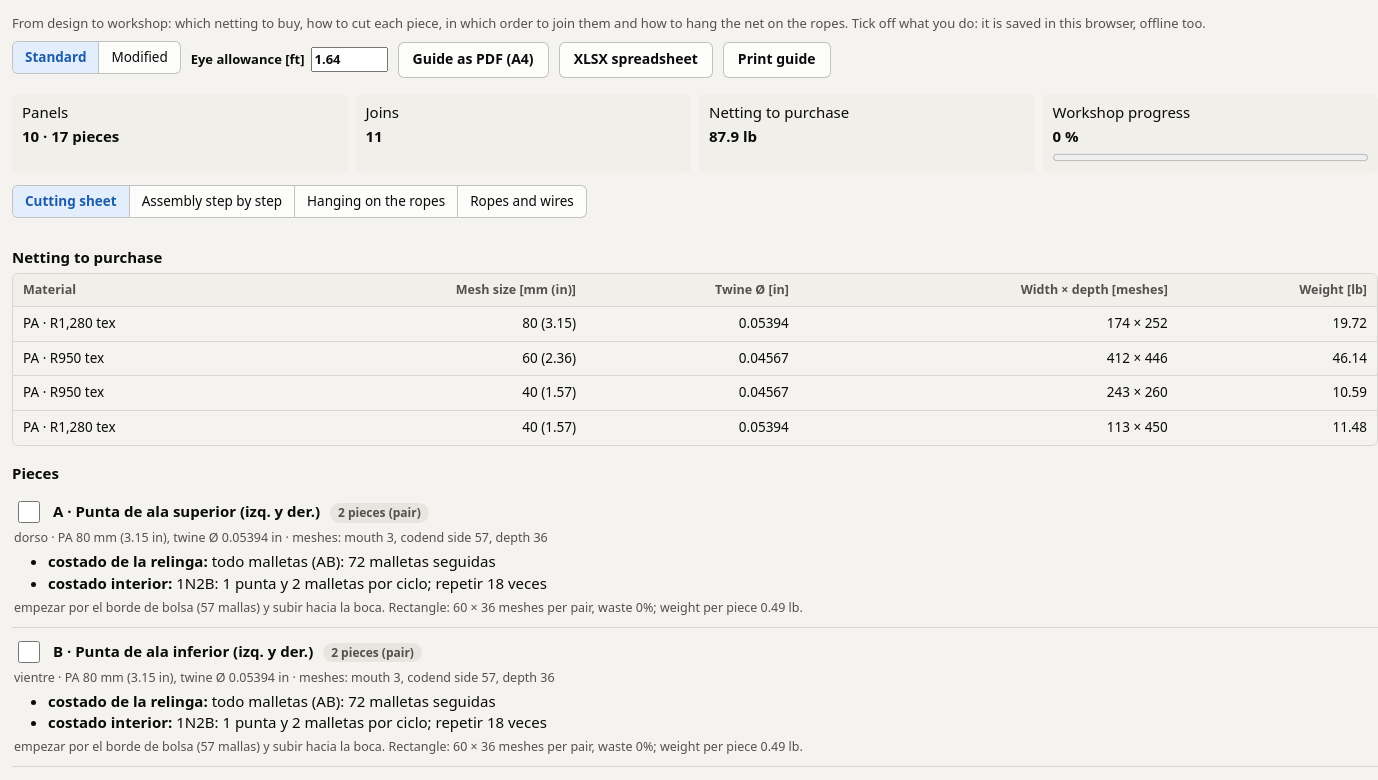
Scenario: batches, construction and economics in English › construction guide in English and imperial units (ft, lb)
Expected: the element with test id "guide-summary" shows "Netting to purchase", [709, 102, 849, 122]
Expected: the element with test id "guide-summary" shows "lb", [709, 126, 757, 146]
Click the button "Ropes and wires".
click(521, 202)  # box [457, 186, 586, 218]
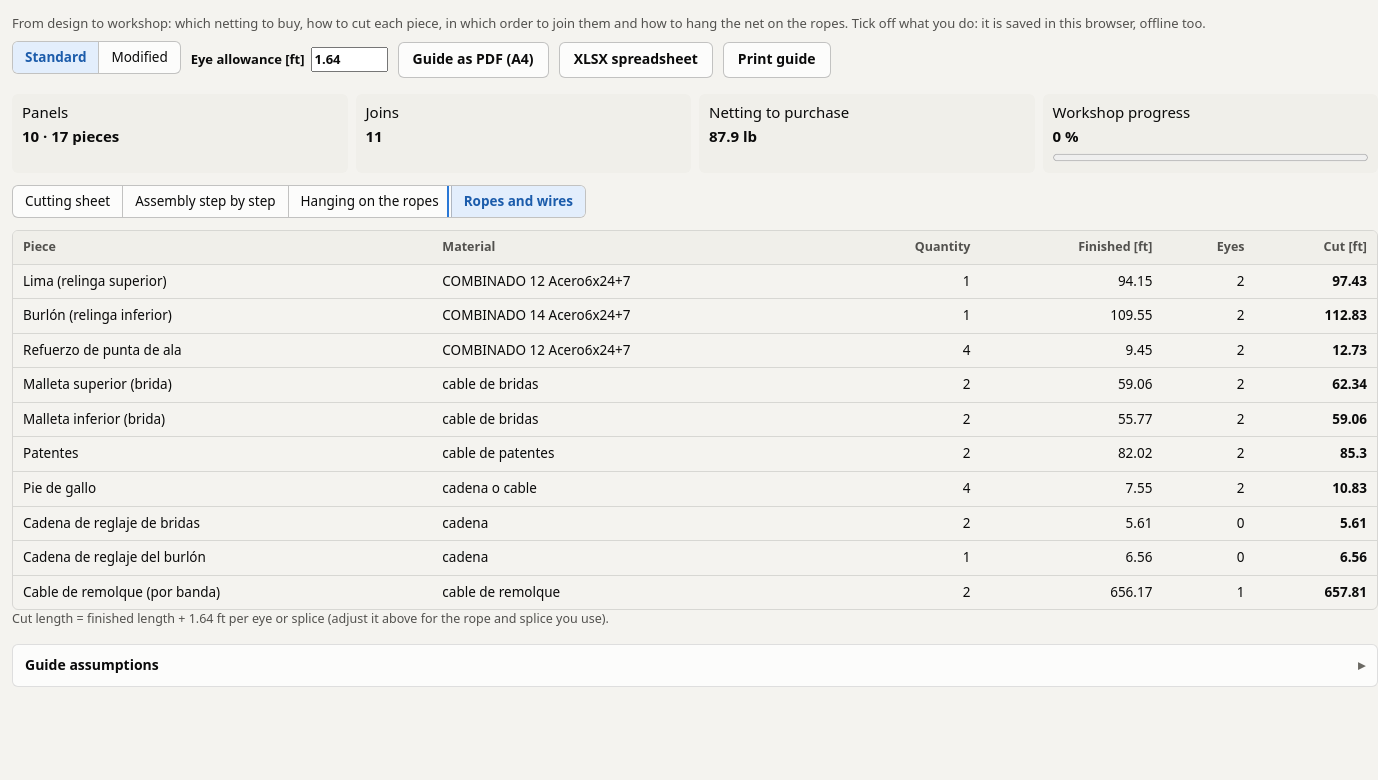
Expected: the field labelled "Eye allowance" holds "1.64", [310, 47, 388, 72]
Result: the column heading "Finished [ft]" is shown at [980, 232, 1162, 264]
